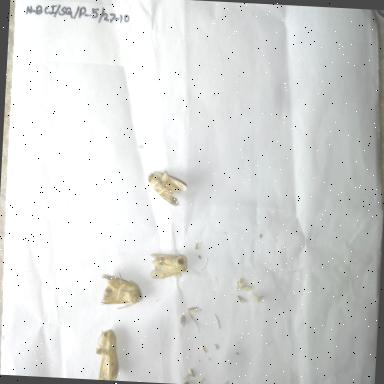abw: (136, 155, 196, 217), (92, 270, 146, 314), (91, 323, 125, 381), (145, 246, 193, 286)
